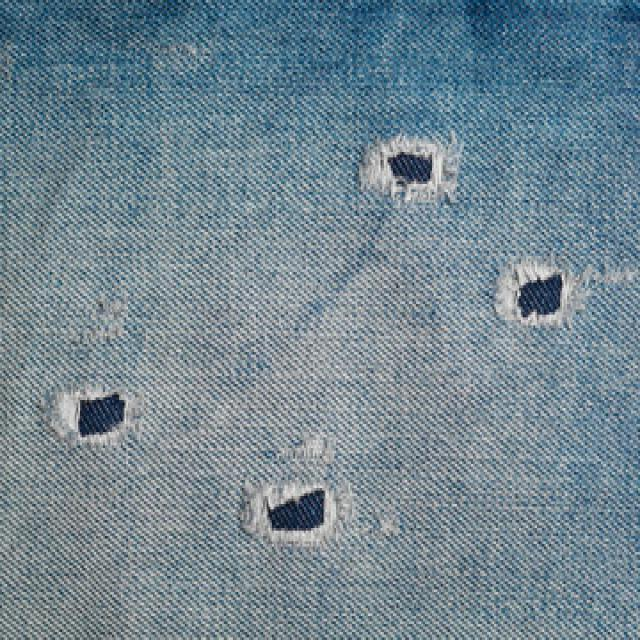Hole: (497, 260, 573, 325), (268, 490, 325, 531), (77, 394, 124, 437), (387, 152, 432, 182)
